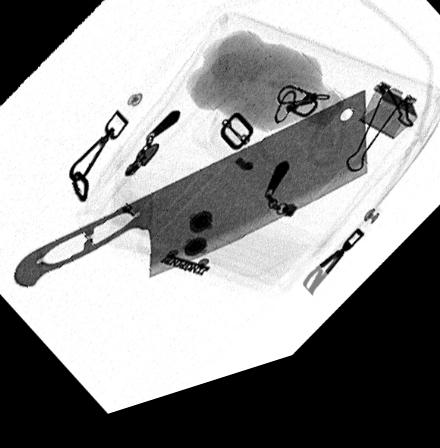Knife: (13, 110, 369, 288)
